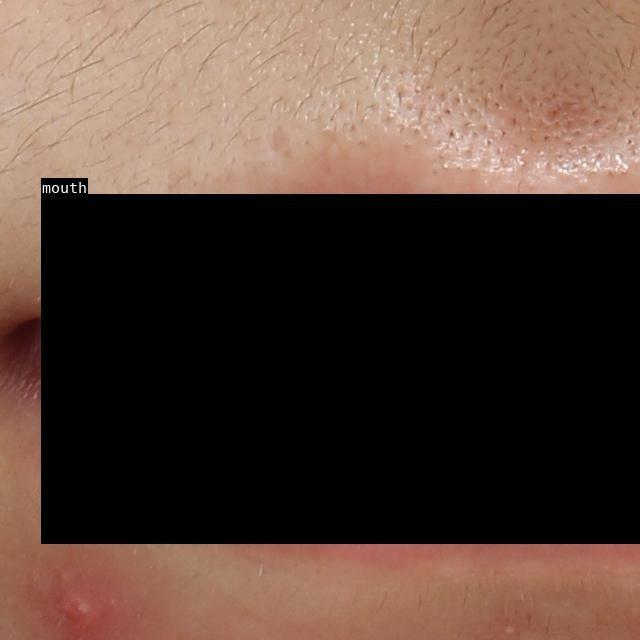atrophic_scar: (265, 128, 295, 159)
comedo: (503, 624, 517, 637)
papule: (49, 566, 118, 634)
